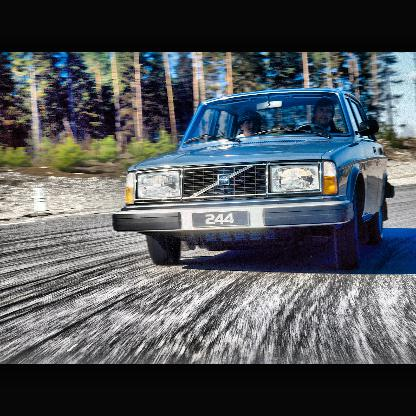Volvo 240 Sedan 1993: (114, 88, 398, 268)
